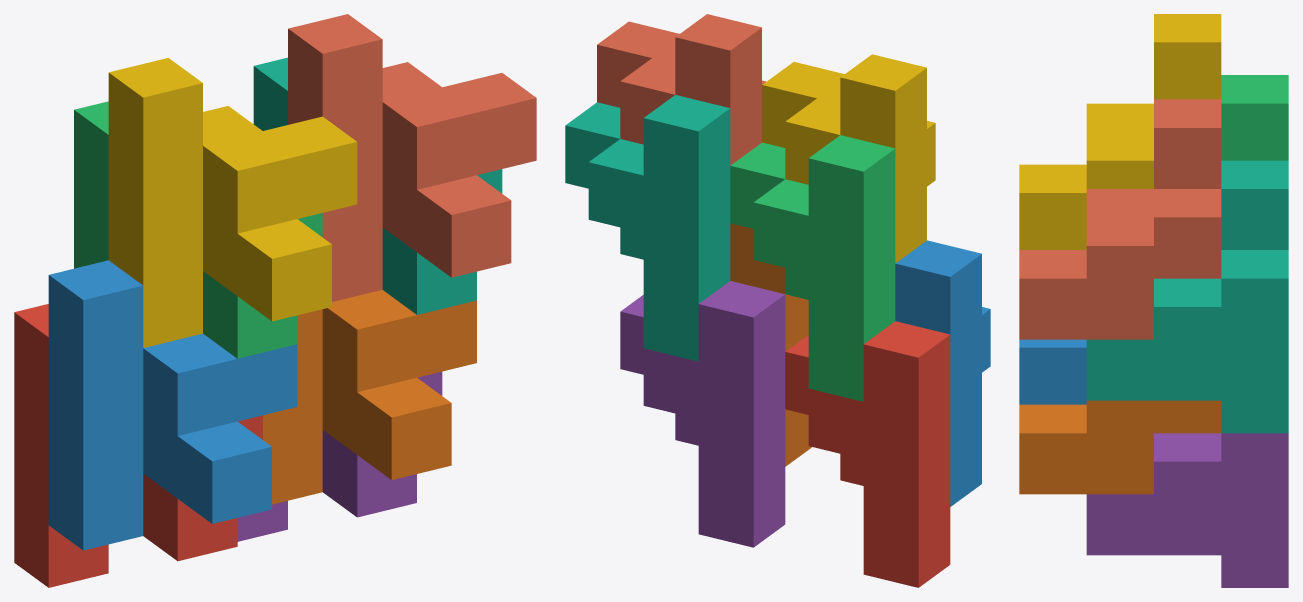
The model's file is tiling.obj.
3 views of the same model, side by side, from view 1: azimuth 30°, elevation 25°; view 2: azimuth 150°, elevation 25°; view 3: azimuth 270°, elevation 25° (orthographic). The views are drawn at different scales.
Visible parts, largest first — view 1: copy_1_domain_4, copy_1_domain_2, copy_1_domain_8, copy_1_domain_6, copy_1_domain_1, copy_1_domain_3, copy_1_domain_7, copy_1_domain_5; view 2: copy_1_domain_3, copy_1_domain_7, copy_1_domain_1, copy_1_domain_5, copy_1_domain_4, copy_1_domain_8, copy_1_domain_2, copy_1_domain_6; view 3: copy_1_domain_7, copy_1_domain_8, copy_1_domain_5, copy_1_domain_4, copy_1_domain_6, copy_1_domain_3, copy_1_domain_2.
Boxes of the visible parts, x1=… form: copy_1_domain_4: x1=108, y1=58, x2=357, y2=347; copy_1_domain_2: x1=48, y1=260, x2=297, y2=550; copy_1_domain_8: x1=288, y1=14, x2=536, y2=301; copy_1_domain_6: x1=263, y1=290, x2=476, y2=504; copy_1_domain_1: x1=14, y1=304, x2=262, y2=587; copy_1_domain_3: x1=74, y1=101, x2=322, y2=358; copy_1_domain_7: x1=253, y1=57, x2=502, y2=314; copy_1_domain_5: x1=237, y1=371, x2=442, y2=541; copy_1_domain_3: x1=730, y1=135, x2=895, y2=401; copy_1_domain_7: x1=565, y1=95, x2=730, y2=361; copy_1_domain_1: x1=785, y1=321, x2=950, y2=587; copy_1_domain_5: x1=620, y1=281, x2=785, y2=547; copy_1_domain_4: x1=762, y1=54, x2=935, y2=263; copy_1_domain_8: x1=597, y1=14, x2=765, y2=165; copy_1_domain_2: x1=895, y1=240, x2=990, y2=506; copy_1_domain_6: x1=730, y1=223, x2=811, y2=466; copy_1_domain_7: x1=1086, y1=160, x2=1288, y2=433; copy_1_domain_8: x1=1019, y1=99, x2=1221, y2=339; copy_1_domain_5: x1=1086, y1=433, x2=1288, y2=587; copy_1_domain_4: x1=1019, y1=14, x2=1221, y2=249; copy_1_domain_6: x1=1019, y1=400, x2=1221, y2=494; copy_1_domain_3: x1=1221, y1=75, x2=1288, y2=160; copy_1_domain_2: x1=1019, y1=339, x2=1086, y2=404.
Size of the model in its own units: 7 by 8 by 4.
